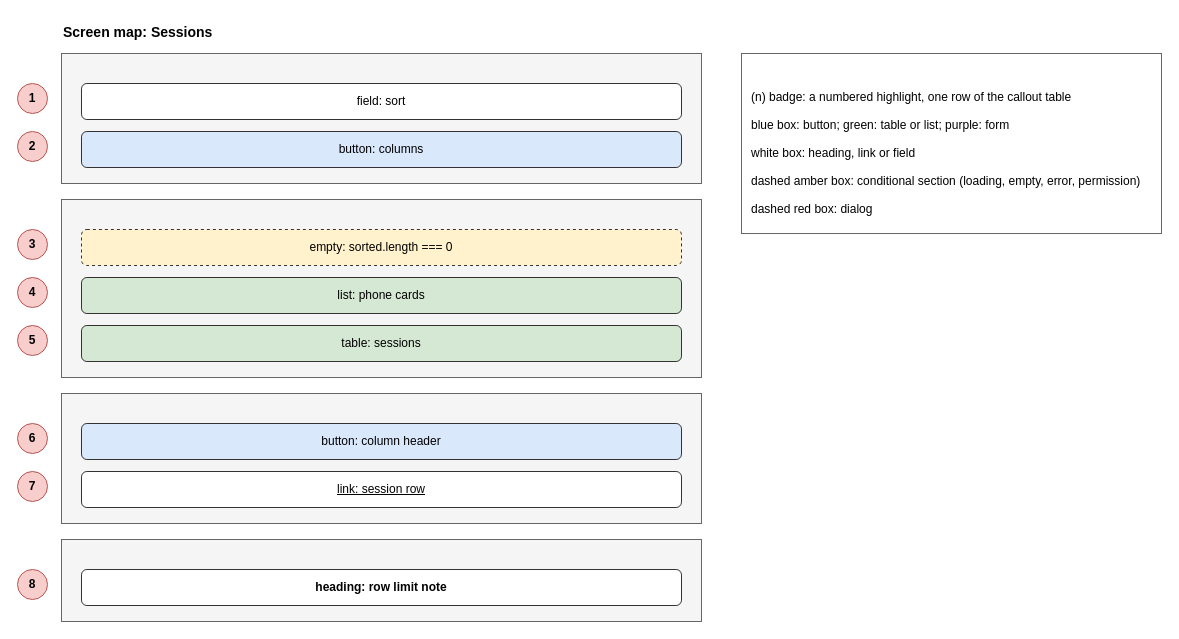
This 1179x639 diagram has some shape labels left out. Each missing label, with the box of its shape:
body: (60, 198, 702, 378)
footer: (60, 538, 702, 622)
header: (60, 52, 702, 184)
Legend: (740, 52, 1162, 234)
table: (60, 392, 702, 524)
